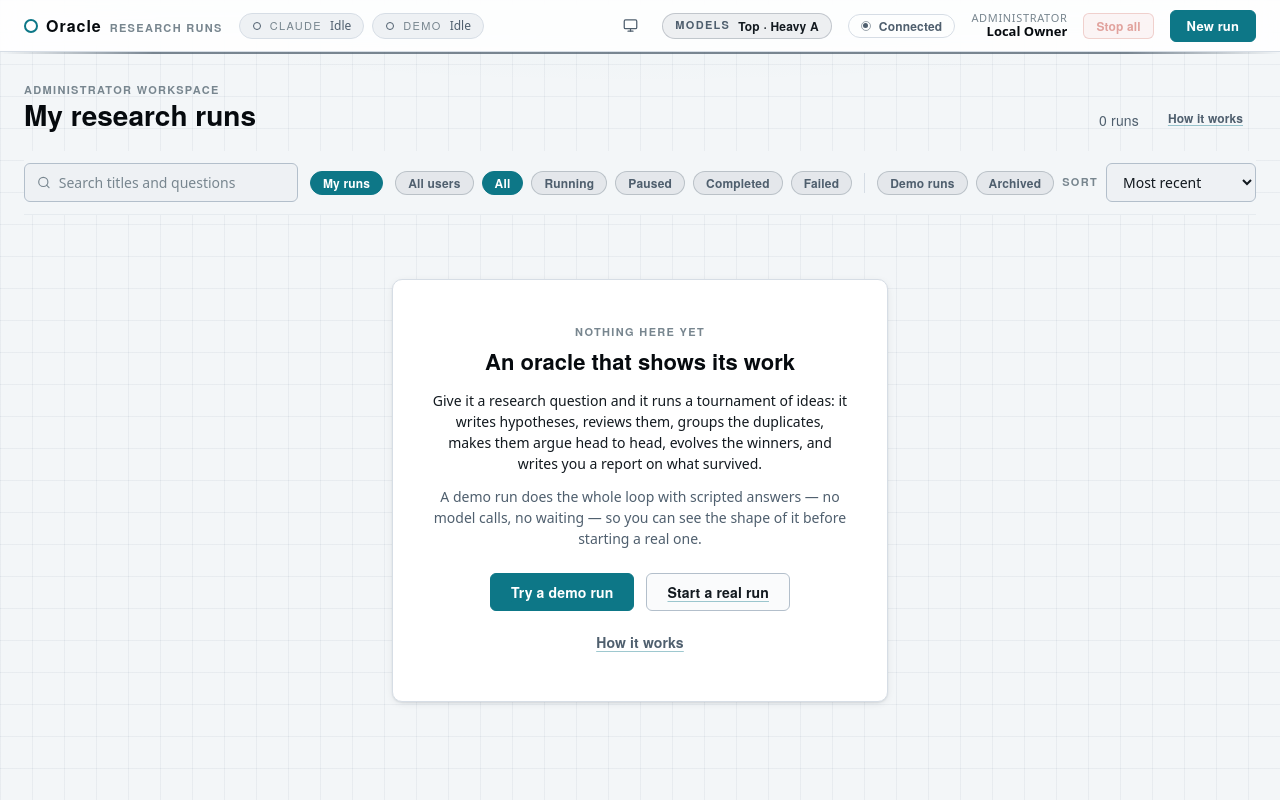
Test: model editor — editing, resetting and saving › redefines the selected tier, sending only the changed steps
The width and height of the screenshot is (1280, 800).
Click the button "Models Top · Heavy A" at (747, 26), box [662,12,832,38]
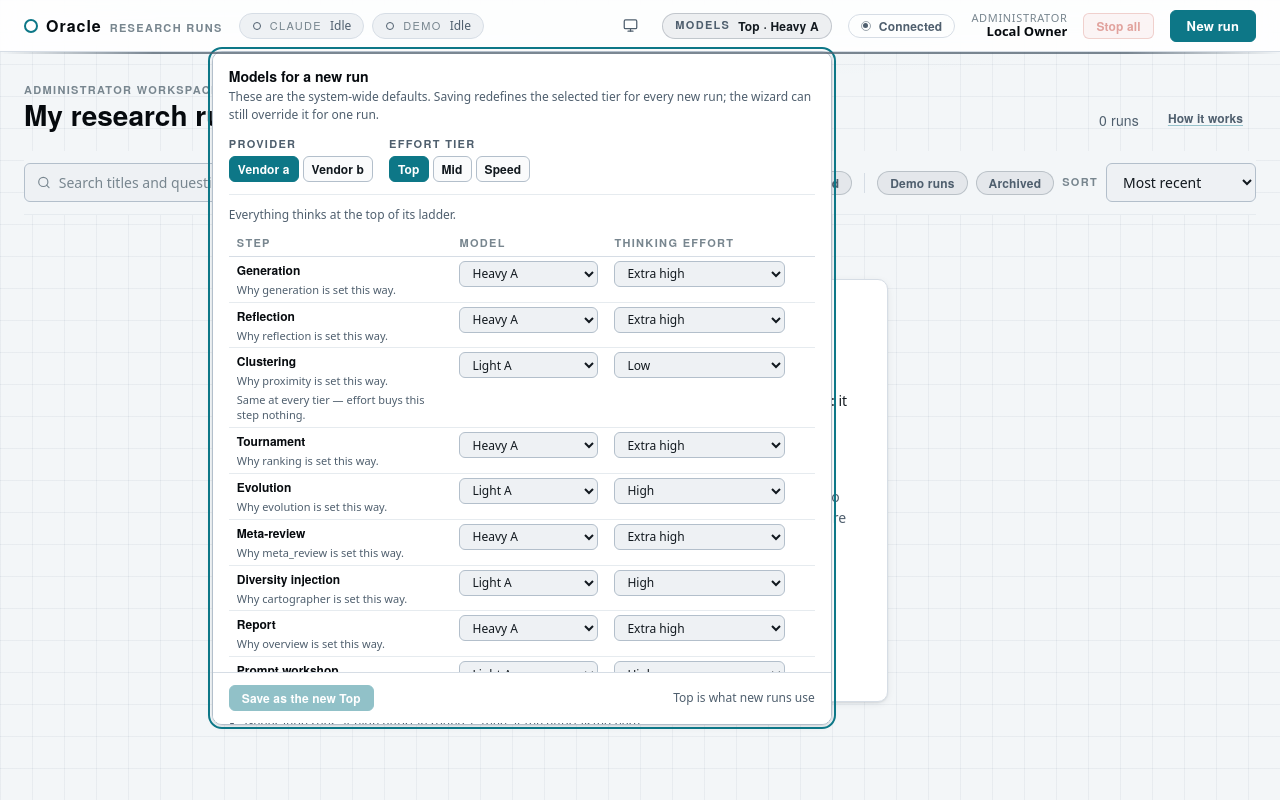
Check: the 1st dropdown named "Model for Generation" is shown
Select "Light B" in the 1st dropdown named "Model for Generation" at (529, 274), box [460,261,598,287]
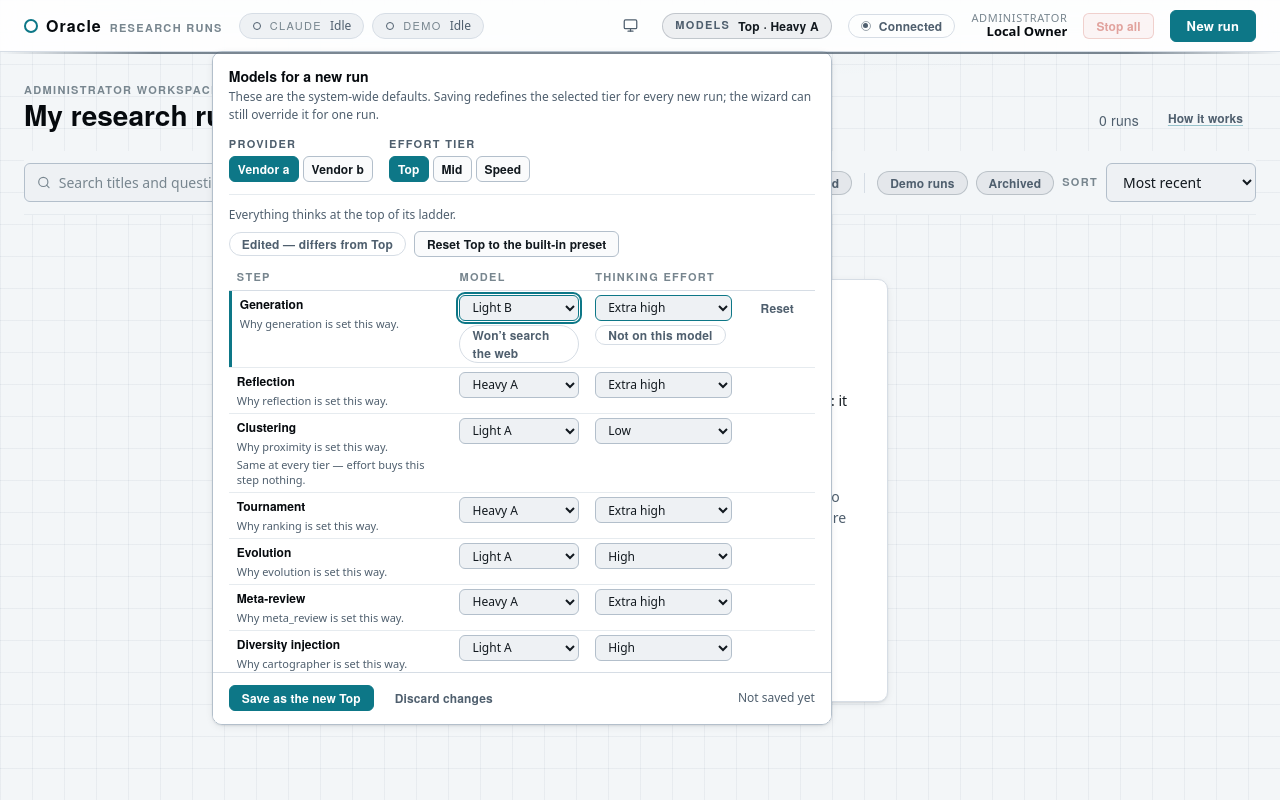
Click the button "Save as the new Top" at (301, 698), box [229,686,374,712]
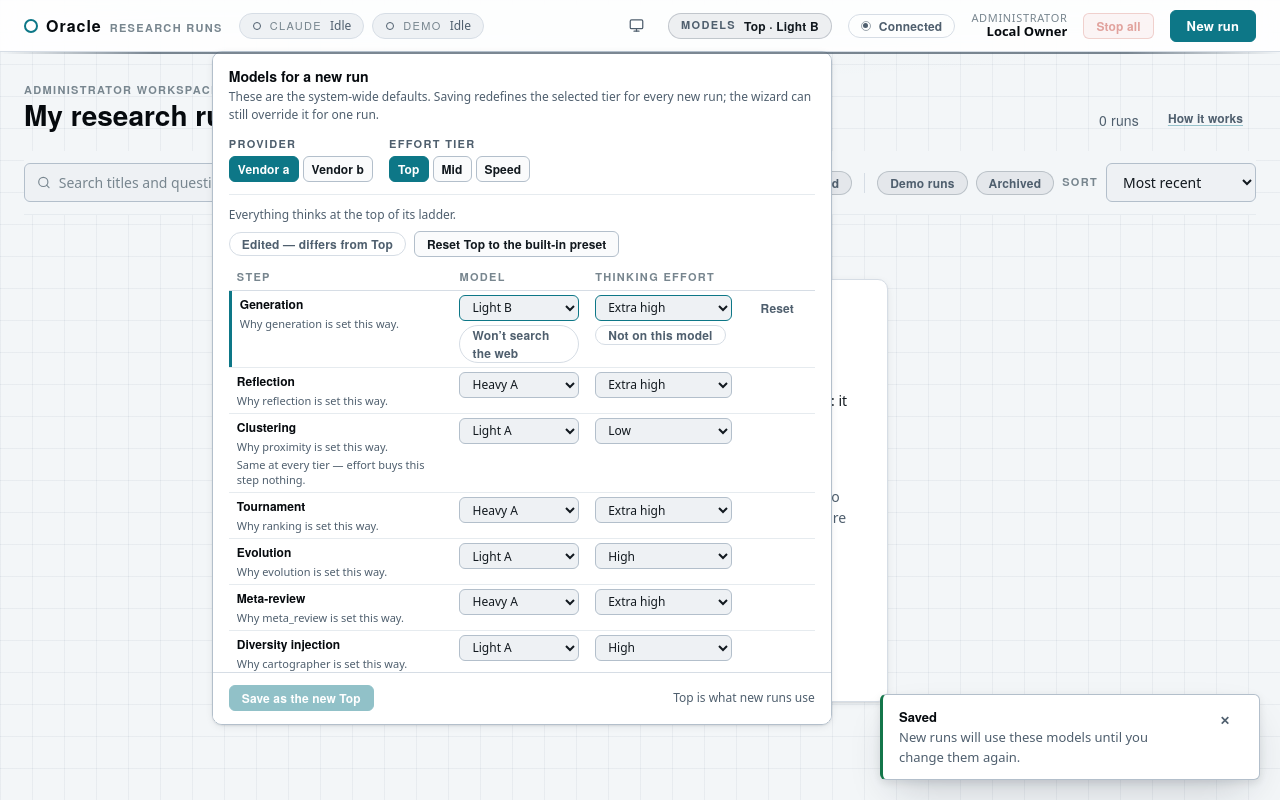
Check: the text "New runs will use these models until you change them again." is shown, box [899,728,1148,766]
